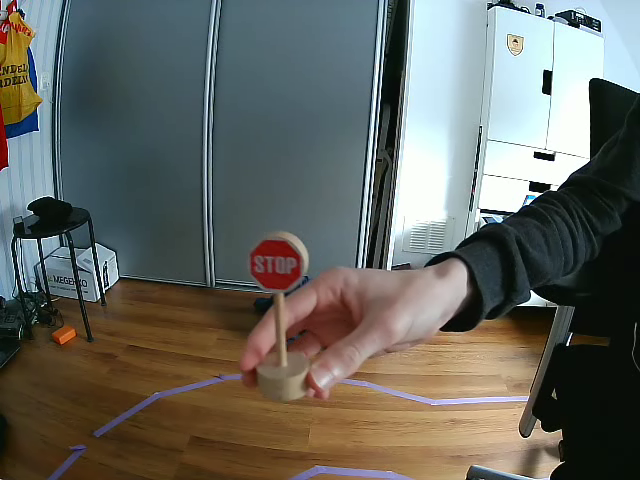stopbord: (249, 237, 302, 293)
